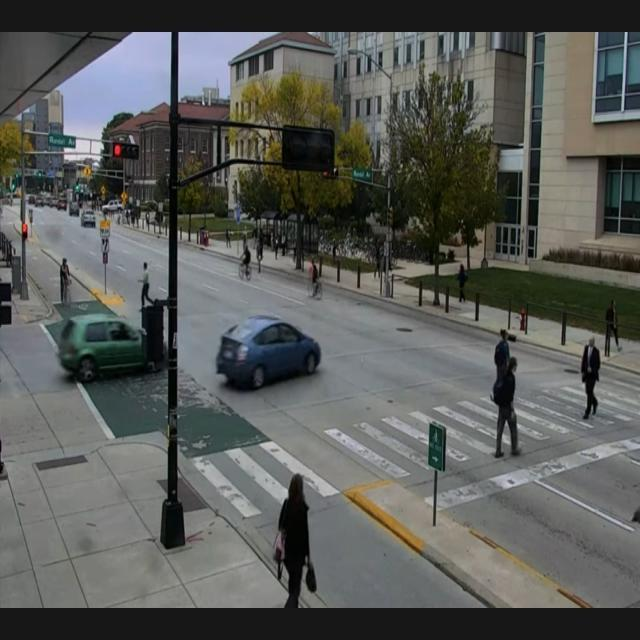Walking: (43, 245, 89, 323)
crossing: (235, 447, 334, 618), (484, 355, 550, 479), (568, 307, 620, 443), (472, 306, 514, 405), (599, 273, 632, 368), (127, 247, 166, 326), (222, 218, 255, 294), (307, 236, 331, 320)
